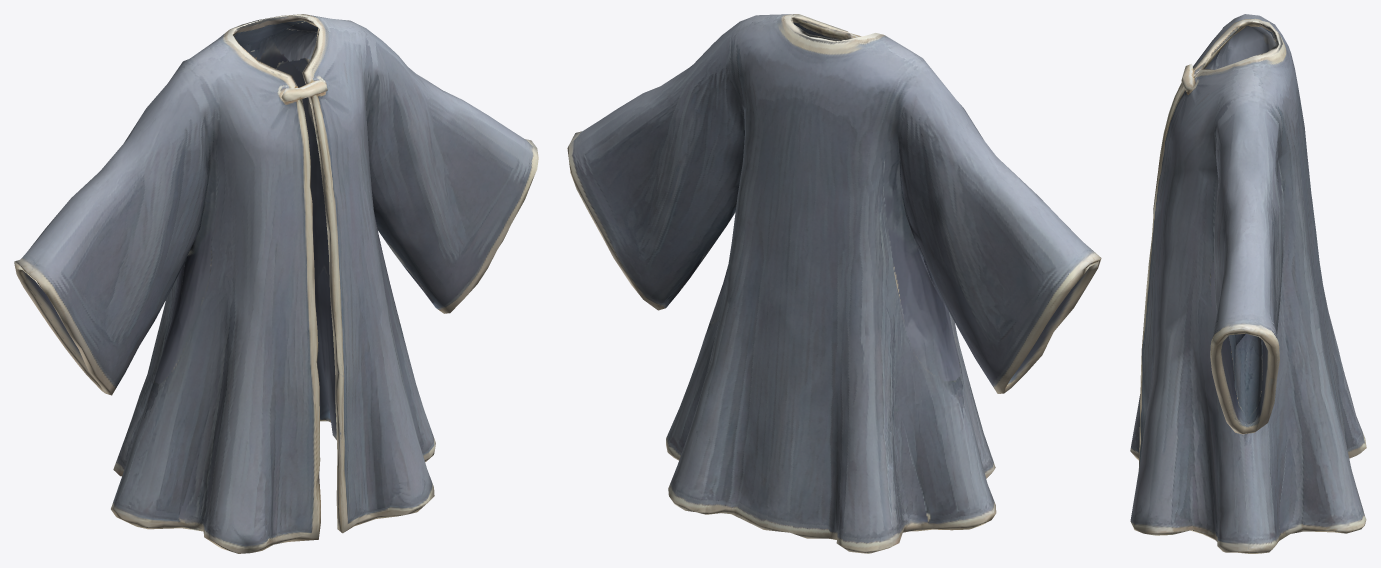
The model's file is Varco_Robe_Raw.fbx.
3 renders of one model, left to right at view 1: azimuth 30°, elevation 25°; view 2: azimuth 150°, elevation 25°; view 3: azimuth 270°, elevation 25°, orthographic. The views are drawn at different scales.
Parts seen in each view (by area): view 1: texture_mapping; view 2: texture_mapping; view 3: texture_mapping.
Part boxes in pixels (bbox=[...]): texture_mapping: bbox=[14, 14, 538, 553]; texture_mapping: bbox=[567, 14, 1101, 553]; texture_mapping: bbox=[1130, 14, 1366, 553].
Bounding box in the file's own units: 0.9977 × 0.4097 × 0.876.
1 material, 1 textured.
